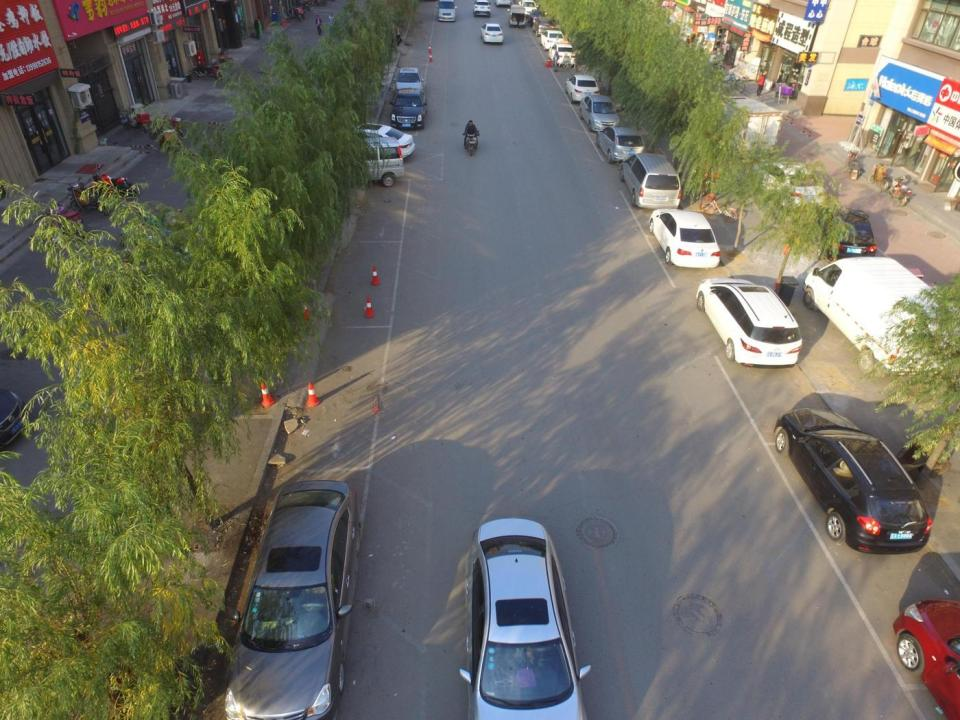car: (214, 474, 359, 720), (454, 515, 592, 720), (772, 404, 933, 556), (695, 276, 803, 370), (648, 206, 722, 270), (747, 160, 827, 218), (817, 206, 877, 262), (340, 122, 416, 162), (595, 124, 645, 164), (578, 94, 620, 132), (390, 92, 424, 129), (394, 64, 424, 98), (564, 74, 600, 102), (548, 43, 576, 65), (540, 29, 564, 51), (479, 22, 504, 43), (435, 0, 457, 21), (531, 16, 554, 36), (508, 3, 526, 26), (517, 0, 537, 16), (472, 1, 492, 16), (527, 9, 545, 25)
truck: (714, 92, 784, 158)
van: (801, 256, 960, 378), (619, 152, 682, 211), (336, 136, 404, 188)
